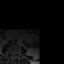CCS_stenosis: (13, 50, 14, 57)
LFS_normal: (15, 50, 17, 55)
LLS_normal: (14, 50, 15, 56)
RFS_normal: (10, 50, 11, 54)
RLS_normal: (11, 50, 13, 55)
